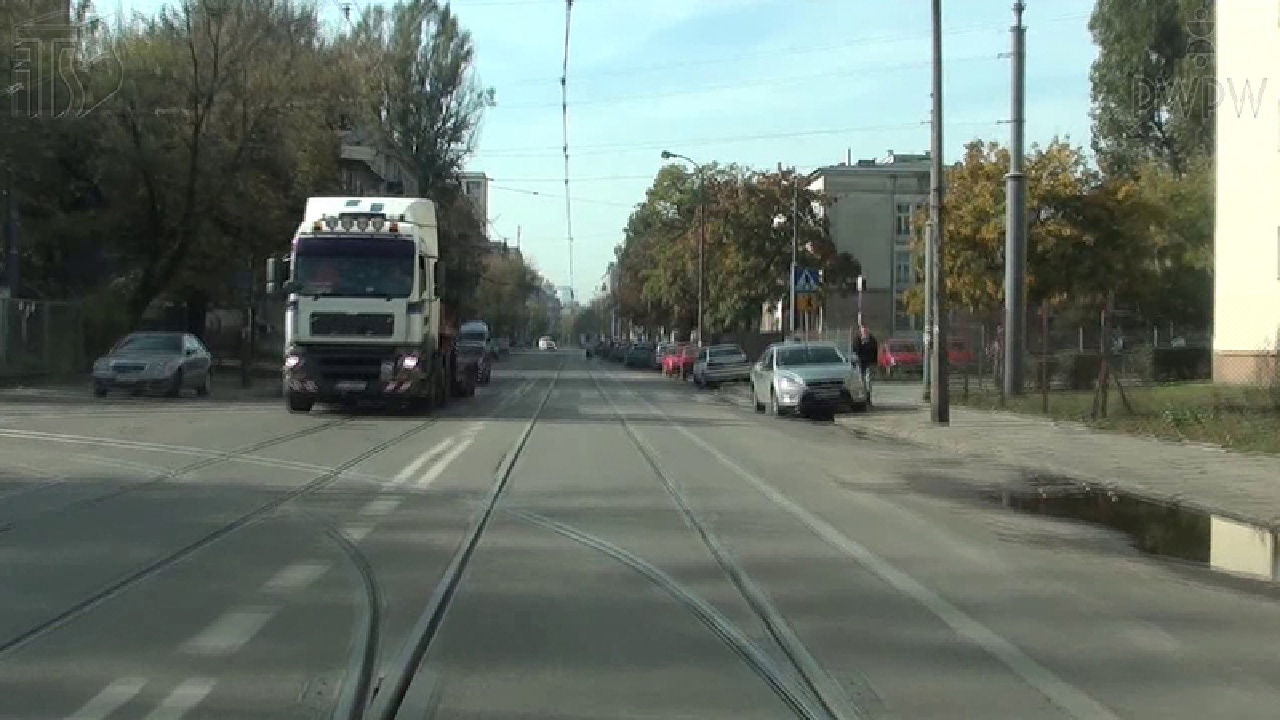D6: (796, 267, 824, 294)
